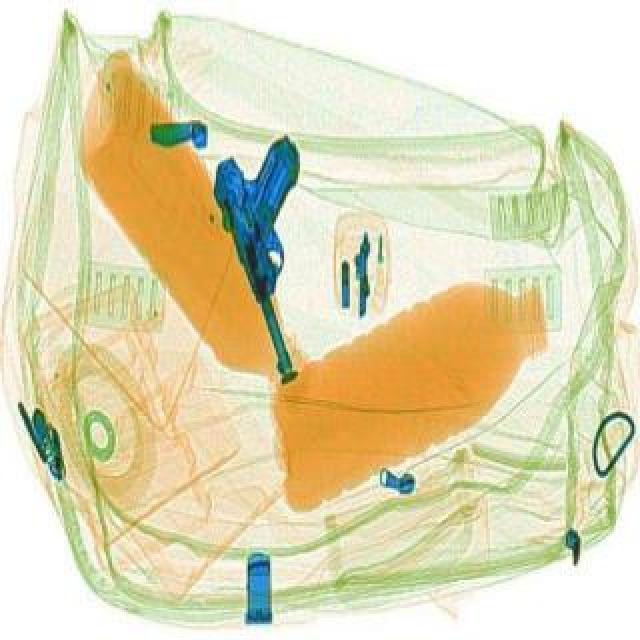gun: (206, 132, 346, 384)
